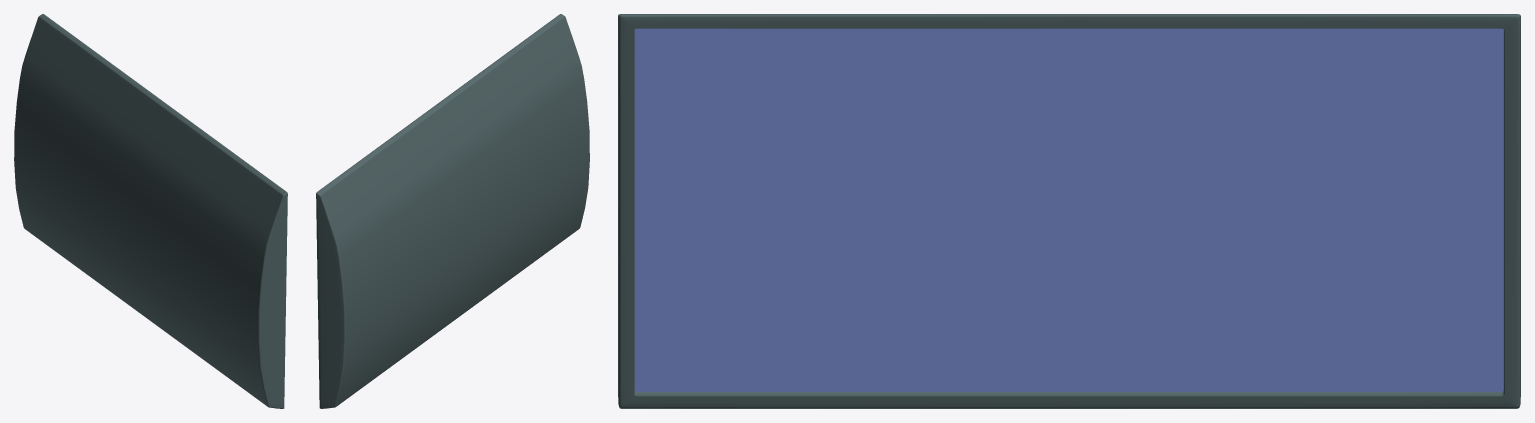
3 renders of one model, left to right at view 1: azimuth 30°, elevation 25°; view 2: azimuth 150°, elevation 25°; view 3: azimuth 270°, elevation 25°, orthographic. The views are drawn at different scales.
Visible parts, largest first — view 1: Subway_AD2; view 2: Subway_AD2; view 3: Subway_AD2.
Part boxes in pixels (box(x1,y1,x2,y2)): Subway_AD2: box(14, 14, 287, 408); Subway_AD2: box(316, 14, 589, 408); Subway_AD2: box(618, 14, 1520, 408).
Bounding box in the file's own units: 30.22 × 209 × 431.
